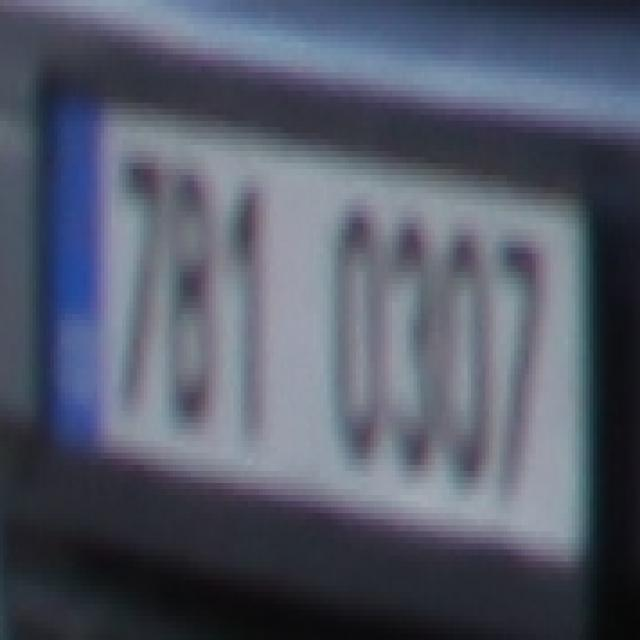0: (439, 223, 496, 489), (327, 211, 385, 459)
1: (227, 175, 270, 435)
3: (385, 217, 431, 459)
7: (111, 145, 162, 417), (504, 218, 546, 520)
B: (169, 163, 223, 417)
